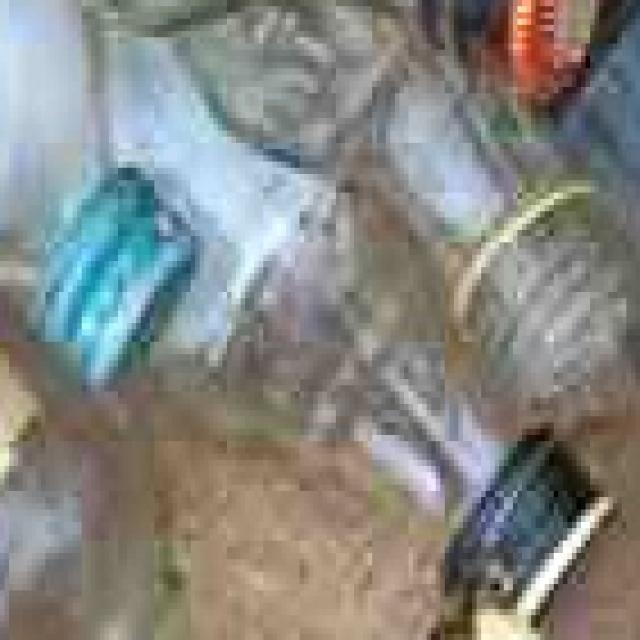metal: (0, 0, 640, 637)
